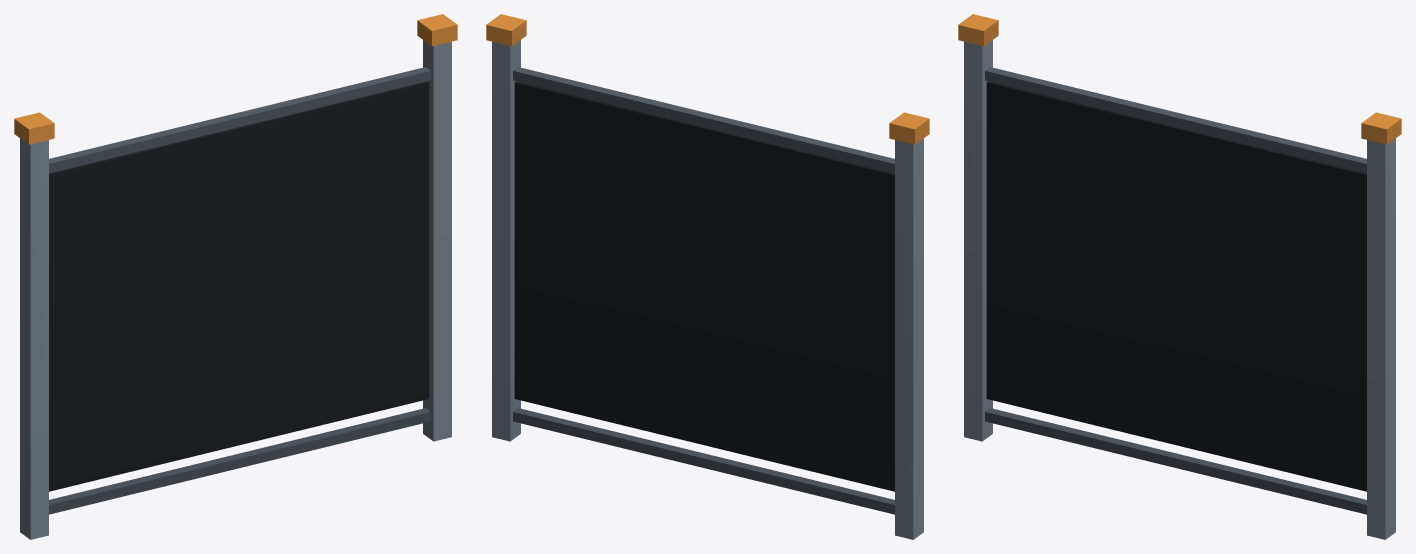
File: obj_valla_2.glb
3 renders of one model, left to right at view 1: azimuth 30°, elevation 25°; view 2: azimuth 150°, elevation 25°; view 3: azimuth 330°, elevation 25°, orthographic.
Parts seen in each view (by area): view 1: propforge-cuartos-valla; view 2: propforge-cuartos-valla; view 3: propforge-cuartos-valla.
Boxes of the visible parts, x1,y1,x2,y2 form: propforge-cuartos-valla: [14, 14, 457, 539]; propforge-cuartos-valla: [486, 14, 929, 539]; propforge-cuartos-valla: [958, 14, 1401, 539].
Bounding box in the file's own units: 1.05 × 0.9691 × 0.063.
